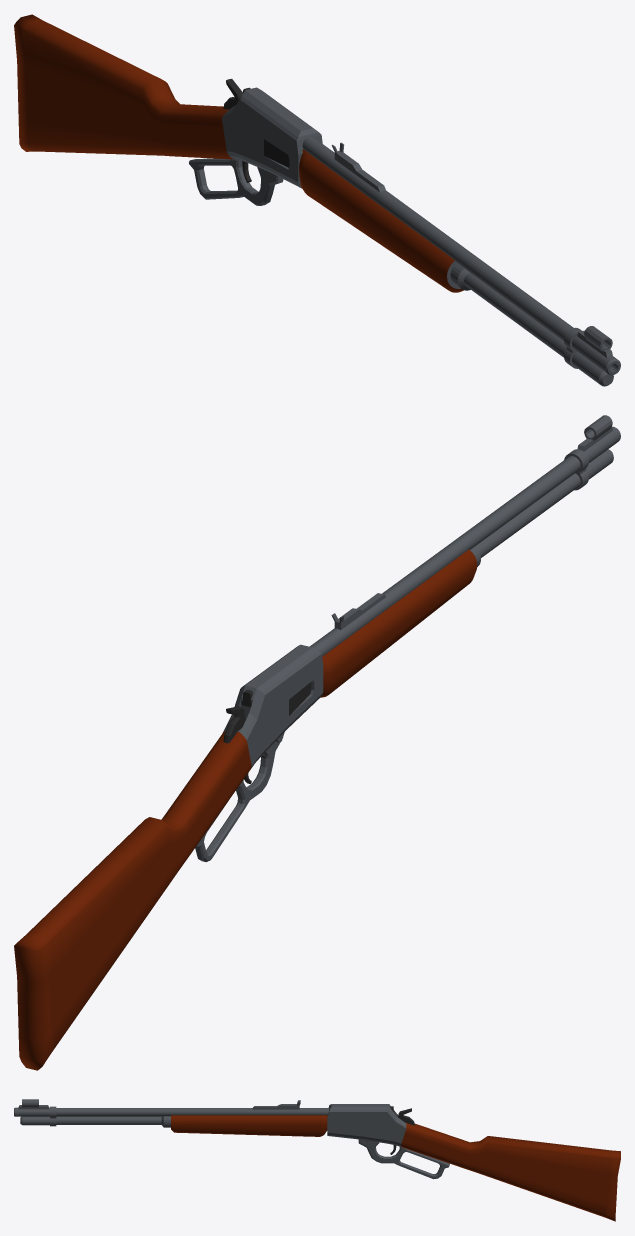
3 views of the same model, one above another, from view 1: azimuth 30°, elevation 25°; view 2: azimuth 150°, elevation 25°; view 3: azimuth 270°, elevation 25° (orthographic). The views are drawn at different scales.
Parts seen in each view (by area): view 1: m336; view 2: m336; view 3: m336.
Part boxes in pixels (x1,y1,x2,y2): m336: [14, 14, 620, 386]; m336: [14, 415, 620, 1070]; m336: [14, 1099, 620, 1221].
Size of the model in its own units: 0.0293 by 0.2149 by 0.981.
7 materials, 7 textured.
